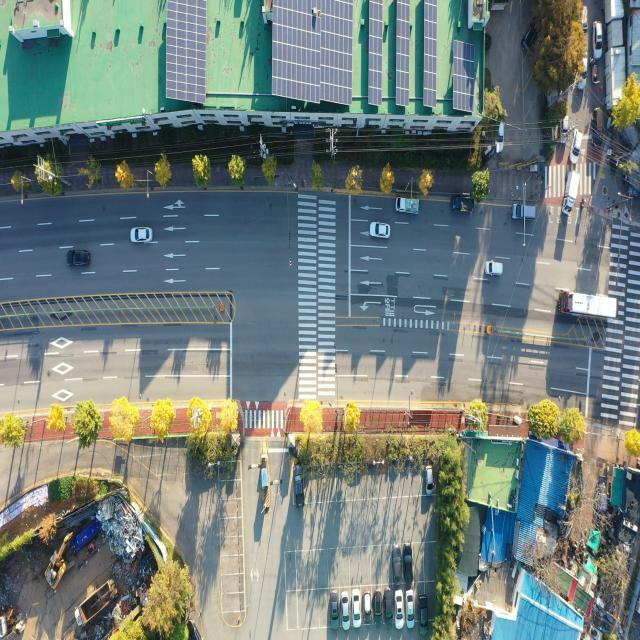car: (294, 465, 304, 508), (522, 22, 536, 52), (512, 204, 536, 221), (570, 128, 581, 163), (392, 547, 402, 583), (67, 250, 89, 266), (594, 22, 603, 60), (592, 107, 601, 145), (578, 57, 588, 91), (132, 228, 152, 244), (370, 222, 390, 238), (420, 592, 428, 630), (406, 546, 414, 584), (375, 590, 384, 623), (495, 120, 504, 153), (406, 592, 414, 628), (352, 590, 360, 626), (396, 591, 404, 627), (364, 590, 372, 625), (330, 592, 338, 627), (560, 116, 570, 144), (384, 589, 392, 624), (486, 262, 504, 277), (343, 591, 350, 628), (426, 467, 434, 495)
large_bus: (558, 293, 617, 319)
medium_truck: (74, 578, 120, 634), (562, 168, 580, 215)
small_truck: (450, 197, 474, 216), (395, 197, 419, 215), (582, 7, 589, 34)
